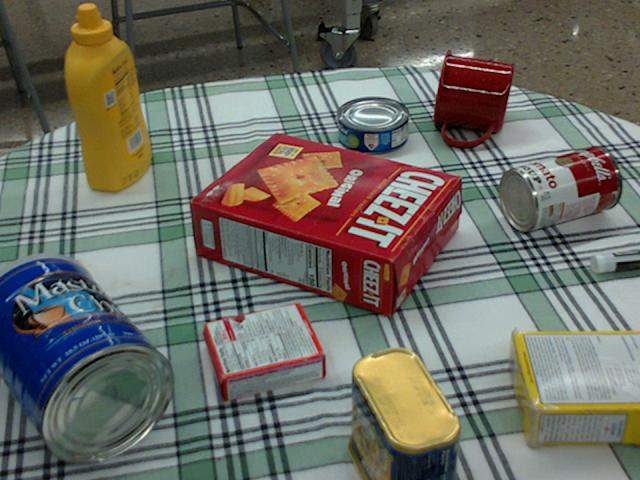cracker_box: (188, 130, 460, 317)
gelatin_box: (201, 303, 327, 398)
large_marker: (591, 250, 639, 271)
master_chef_can: (0, 253, 173, 463)
mug: (432, 49, 513, 146)
mustard_bottle: (65, 4, 150, 191)
potted_meat_can: (346, 345, 461, 479)
sugar_box: (509, 331, 639, 450)
tomato_soup_can: (499, 145, 620, 230)
tuna_fish_can: (336, 96, 409, 153)
